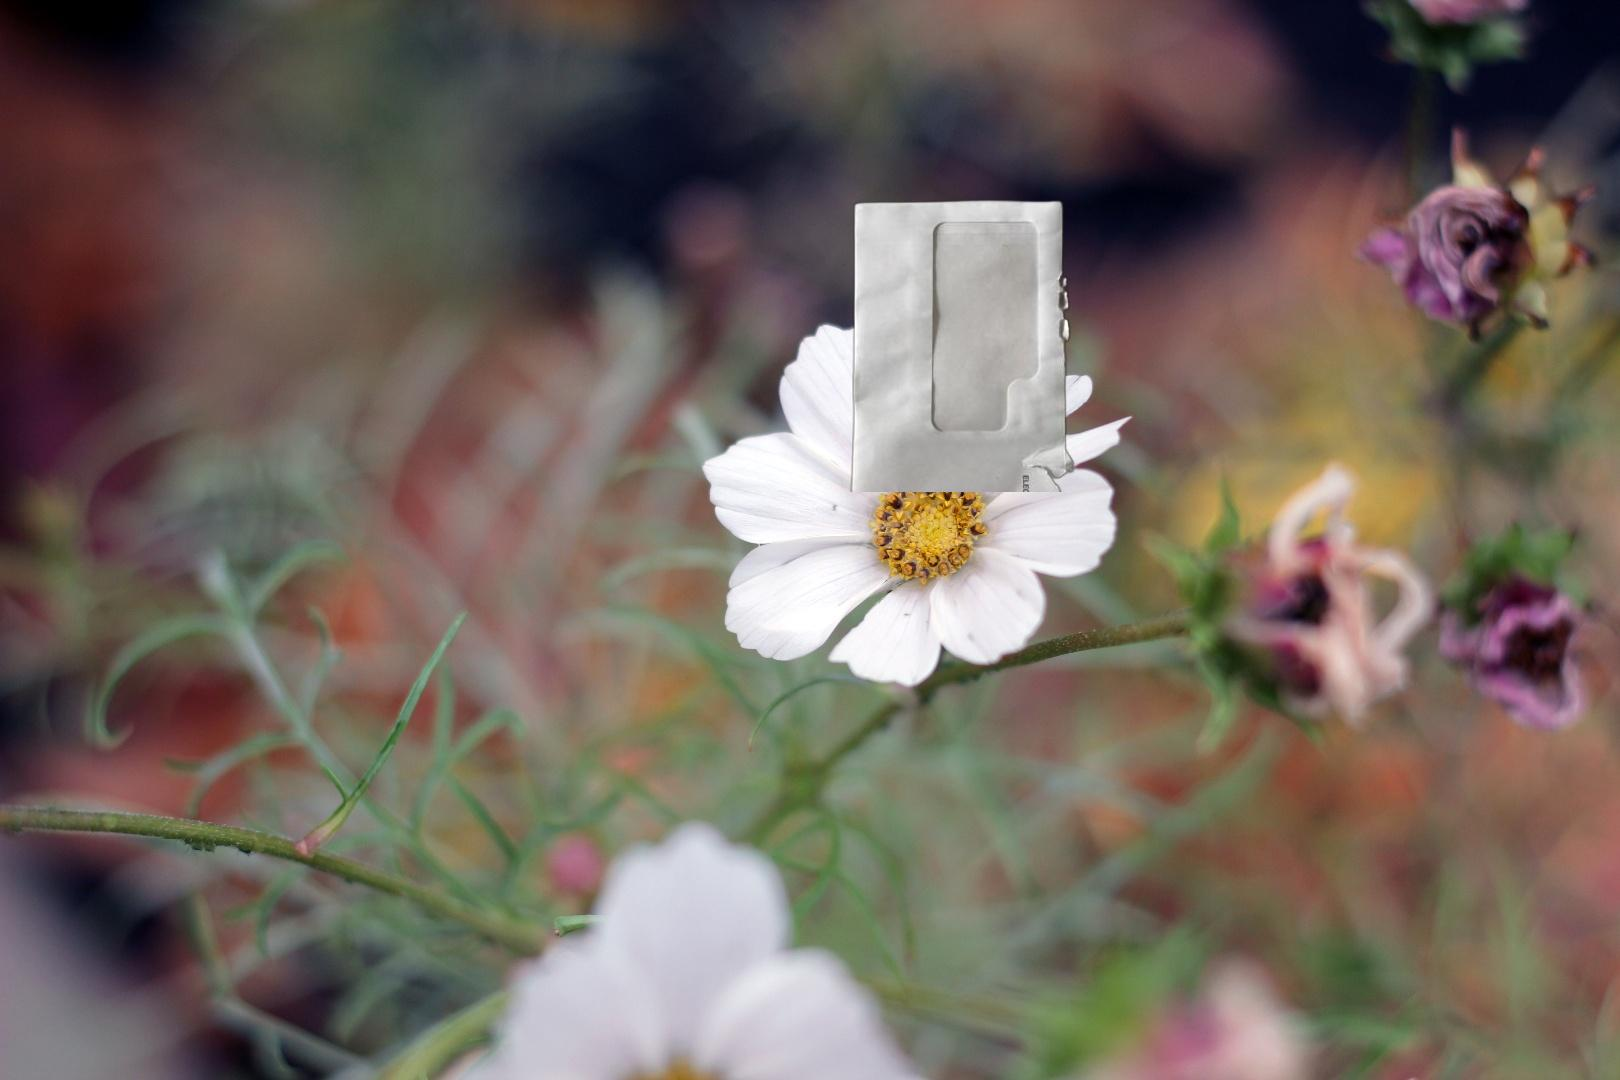paper: (846, 198, 1080, 492)
